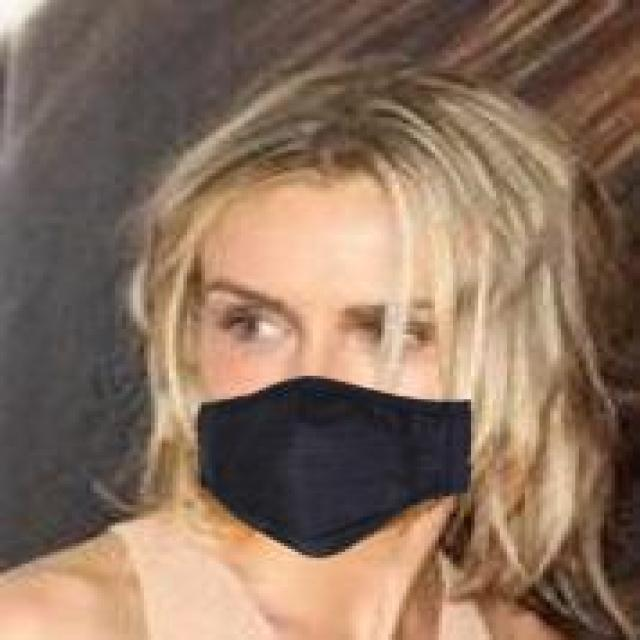mask: (154, 130, 572, 576)
